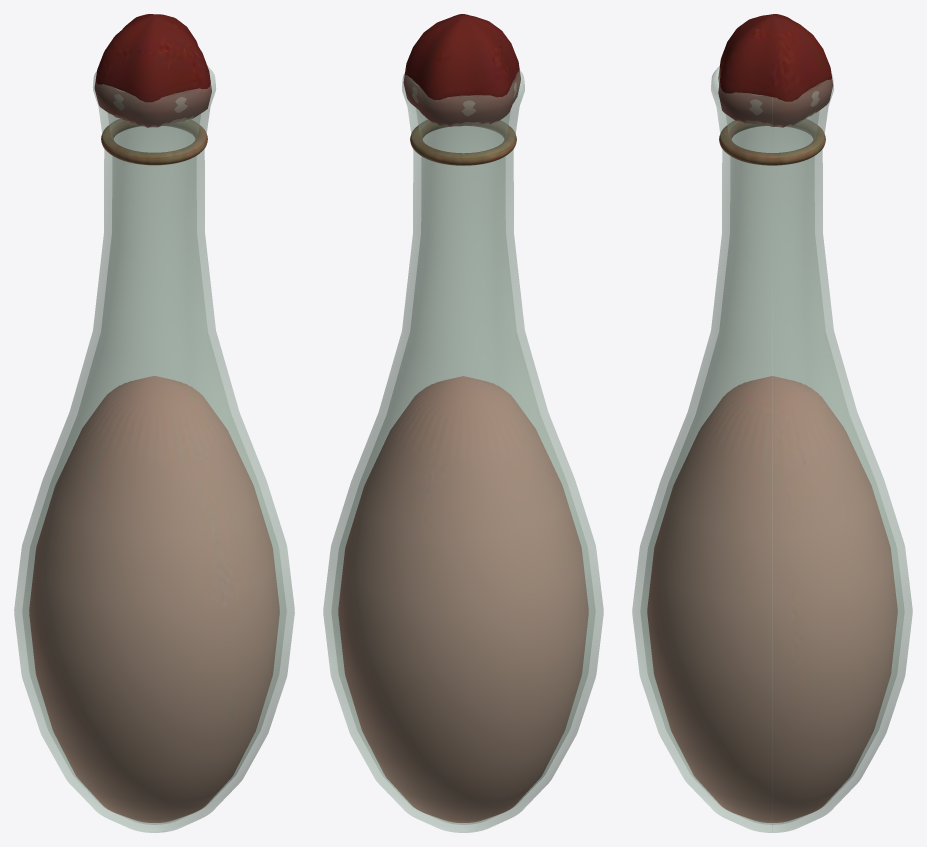
File: vinegar.glb
The picture shows the model from 3 angles, left to right: view 1: azimuth 30°, elevation 25°; view 2: azimuth 150°, elevation 25°; view 3: azimuth 270°, elevation 25°; orthographic projection.
Parts seen in each view (by area): view 1: glass, vinegar; view 2: glass, vinegar; view 3: glass, vinegar.
Boxes of the visible parts, left/top/right/bottom form: glass: left=14, top=65, right=294, bottom=832; vinegar: left=29, top=14, right=279, bottom=822; glass: left=323, top=70, right=603, bottom=832; vinegar: left=338, top=14, right=588, bottom=822; glass: left=632, top=65, right=912, bottom=832; vinegar: left=647, top=14, right=897, bottom=822.
Size of the model in its own units: 0.0533 by 0.1707 by 0.0533.
Materials: 2 (1 with a texture image).
